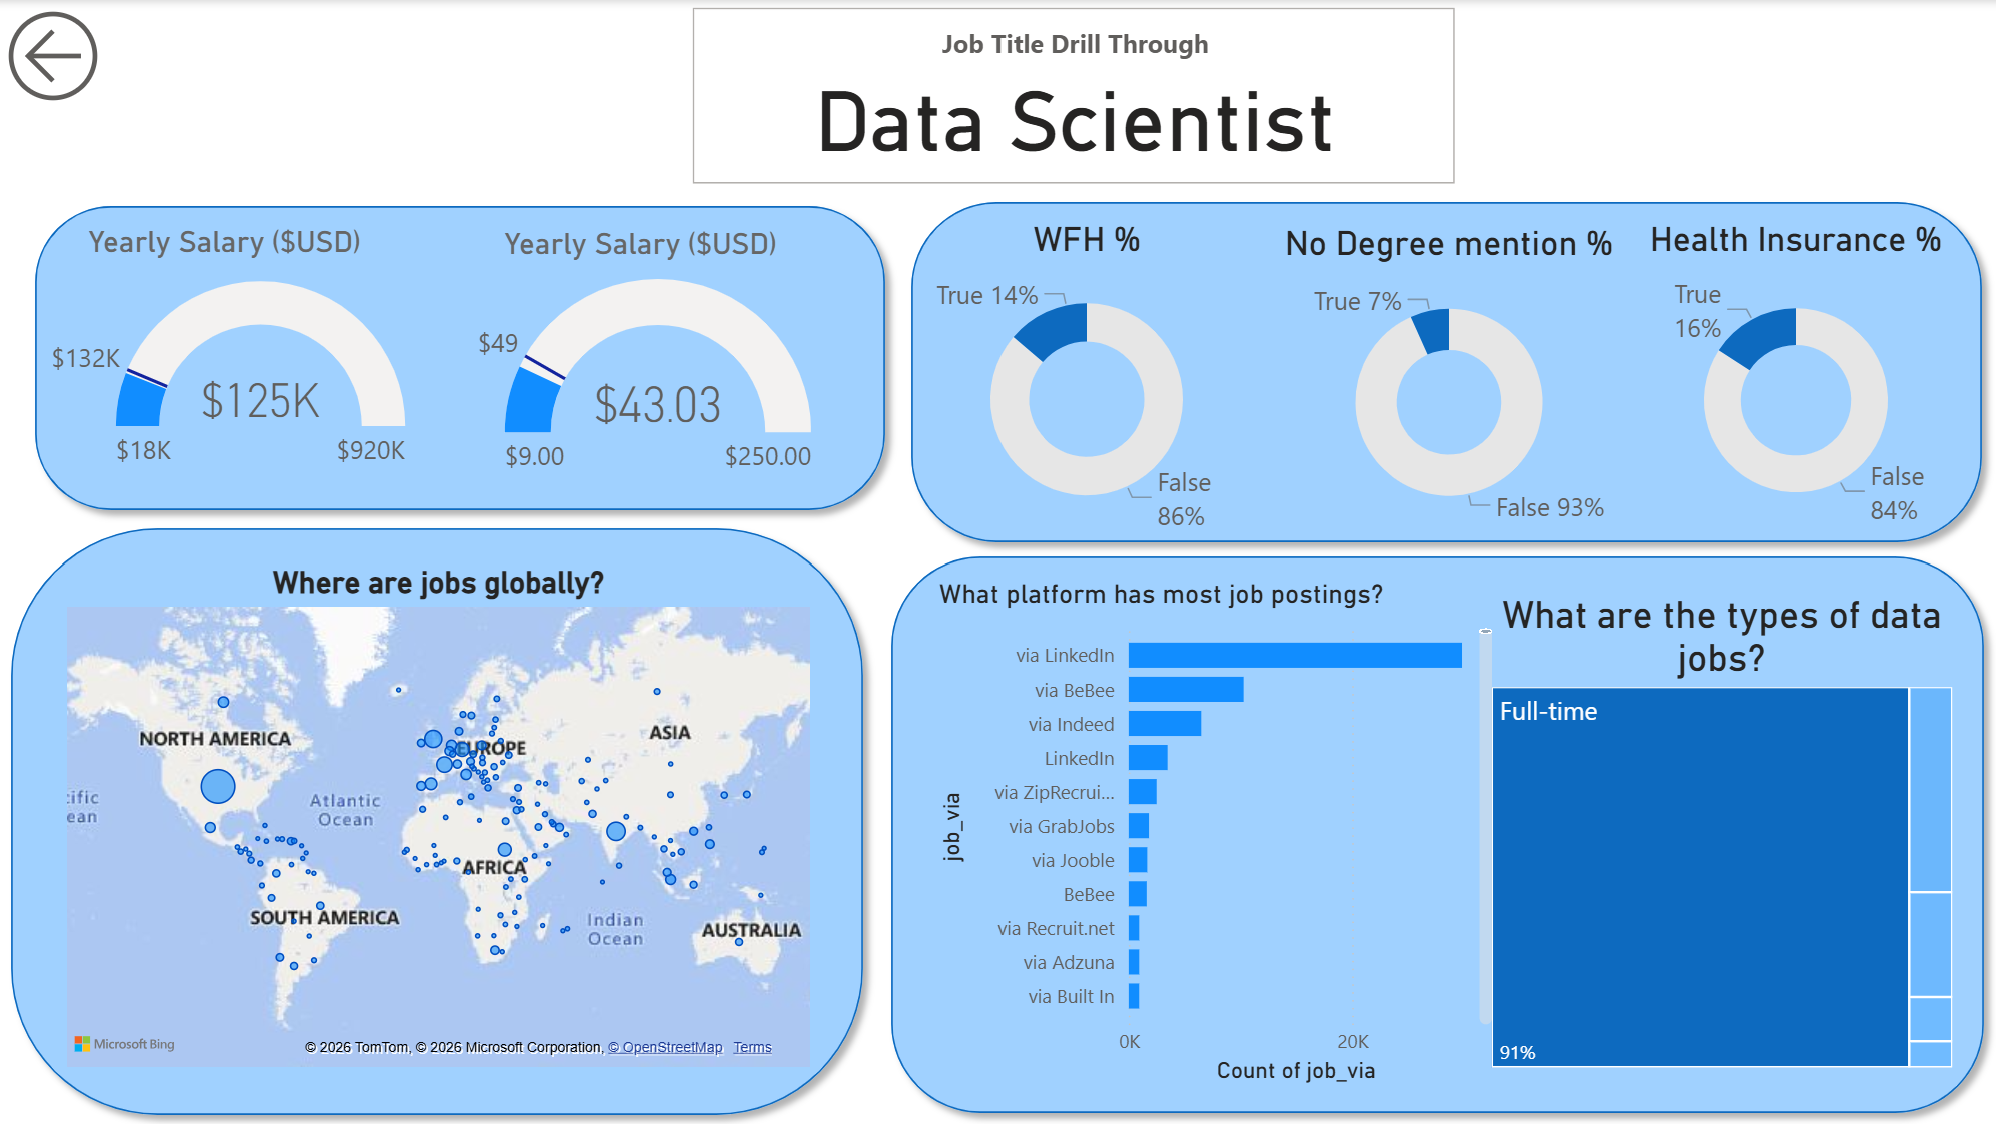

This screenshot's page, from the dashboard's own definition file:
{"tool":"powerbi","page":{"name":"Job Title Drill Through","canvas":[1280,720],"ordinal":1},"visuals":[{"type":"group","id":"g1","title":"Background","box":[0,119.3,1274.9,598.9],"z":0},{"type":"shape","box":[15.3,121.5,559.7,211.6],"z":0,"group":"g1"},{"type":"cardVisual","title":"Job Title Drill Through","fields":{"Data":["Min(job_postings_flat.job_title_short)"]},"box":[438.6,0,495.9,122.4],"z":1000},{"type":"shape","box":[573.7,119.3,699.9,234.6],"z":1000,"group":"g1"},{"type":"actionButton","box":[0,0,118.6,91.8],"z":2000},{"type":"shape","box":[0,326.8,561,391.4],"z":2000,"group":"g1"},{"type":"gauge","title":"Yearly Salary ($USD)","fields":{"Y":["Median(job_postings_flat.salary_year_avg)"],"MinValue":["Min(job_postings_flat.salary_year_avg)"],"MaxValue":["Max(job_postings_flat.salary_year_avg)"],"TargetValue":["Avg(job_postings_flat.salary_year_avg)1"]},"box":[24.2,142.8,241,174.7],"z":3000},{"type":"shape","box":[561,344.6,713.9,372.3],"z":3000,"group":"g1"},{"type":"gauge","title":"Yearly Salary ($USD)","fields":{"Y":["Median(job_postings_flat.salary_hour_avg)"],"MinValue":["Min(job_postings_flat.salary_hour_avg)"],"MaxValue":["Max(job_postings_flat.salary_hour_avg)"],"TargetValue":["Avg(job_postings_flat.salary_hour_avg)"]},"box":[295.8,144.1,228.2,174.7],"z":4000},{"type":"donutChart","title":"WFH %","fields":{"Category":["job_postings_flat.job_work_from_home"],"Y":["CountNonNull(job_postings_flat.job_work_from_home)"]},"box":[575,140.2,238.4,204],"z":5000},{"type":"donutChart","title":"No Degree mention %","fields":{"Category":["job_postings_flat.job_no_degree_mention"],"Y":["CountNonNull(job_postings_flat.job_no_degree_mention)"]},"box":[813.4,142.8,223.1,202.7],"z":6000},{"type":"donutChart","title":"Health Insurance %","fields":{"Y":["CountNonNull(job_postings_flat.job_health_insurance)"],"Category":["job_postings_flat.job_health_insurance"]},"box":[1041.6,140.2,209.1,205.3],"z":7000},{"type":"map","title":"Where are jobs globally?","fields":{"Category":["job_postings_flat.job_country"],"Size":["CountNonNull(job_postings_flat.job_title_short)"]},"box":[39.5,359.5,484.5,325.1],"z":8000},{"type":"treemap","title":"What are the types of data jobs?","fields":{"Values":["CountNonNull(job_postings_flat.job_schedule_type)"],"Group":["job_postings_flat.job_schedule_type"]},"box":[947.3,377.4,303.4,307.3],"z":9000},{"type":"clusteredBarChart","title":"What platform has most job postings?","fields":{"Category":["job_postings_flat.job_via"],"Y":["CountNonNull(job_postings_flat.job_via)"]},"box":[595.4,368.4,362.1,326.4],"z":10000}]}

Visuals, with their boxes in screenshot pixels (x1, y1, x2, y2), scaled from the page's 1280x720 canvas onto the 1996x1124 screenshot:
"Background" group: {"x1": 0, "y1": 186, "x2": 1988, "y2": 1121}
shape: {"x1": 24, "y1": 190, "x2": 897, "y2": 520}
"Job Title Drill Through" cardVisual: {"x1": 684, "y1": 0, "x2": 1457, "y2": 191}
shape: {"x1": 895, "y1": 186, "x2": 1986, "y2": 552}
actionButton: {"x1": 0, "y1": 0, "x2": 185, "y2": 143}
shape: {"x1": 0, "y1": 510, "x2": 875, "y2": 1121}
"Yearly Salary ($USD)" gauge: {"x1": 38, "y1": 223, "x2": 414, "y2": 496}
shape: {"x1": 875, "y1": 538, "x2": 1988, "y2": 1119}
"Yearly Salary ($USD)" gauge: {"x1": 461, "y1": 225, "x2": 817, "y2": 498}
"WFH %" donutChart: {"x1": 897, "y1": 219, "x2": 1268, "y2": 537}
"No Degree mention %" donutChart: {"x1": 1268, "y1": 223, "x2": 1616, "y2": 539}
"Health Insurance %" donutChart: {"x1": 1624, "y1": 219, "x2": 1950, "y2": 539}
"Where are jobs globally?" map: {"x1": 62, "y1": 561, "x2": 817, "y2": 1069}
"What are the types of data jobs?" treemap: {"x1": 1477, "y1": 589, "x2": 1950, "y2": 1069}
"What platform has most job postings?" clusteredBarChart: {"x1": 928, "y1": 575, "x2": 1493, "y2": 1085}
